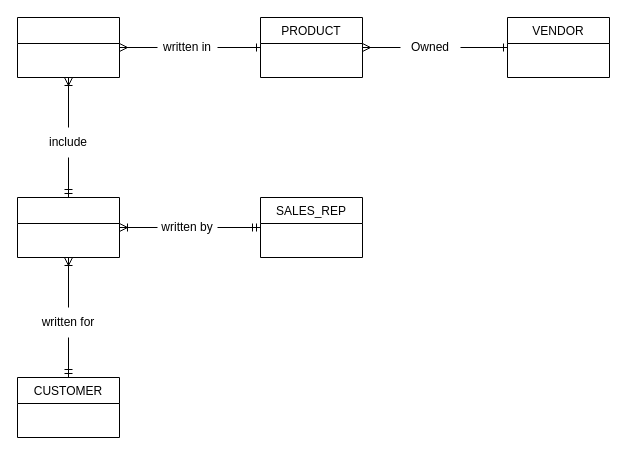
The diagram is 627 pixels wide and 455 high, and some of its shapes have lost their labels. The shapes that lost their labels are listed below. From the top down, each one's centre as x and y in pixels, then its label:
pixel 68 47: LINE
pixel 68 227: INVOICES
